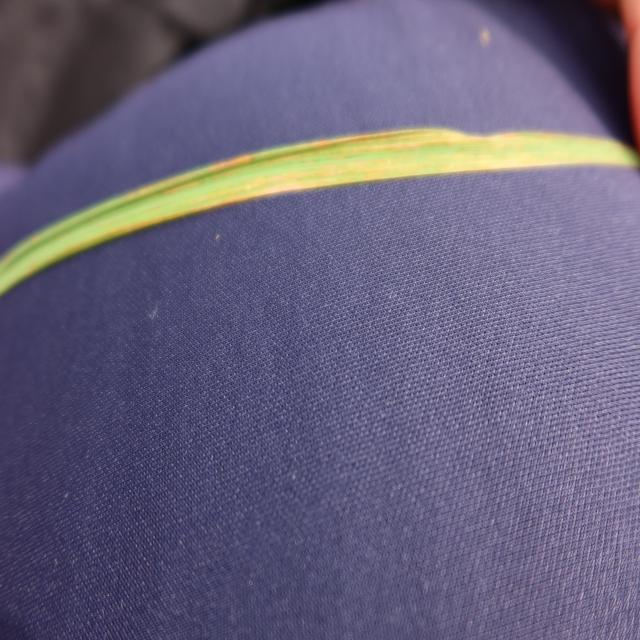Dom soc vi khuan: (183, 165, 409, 208), (334, 136, 472, 153)
